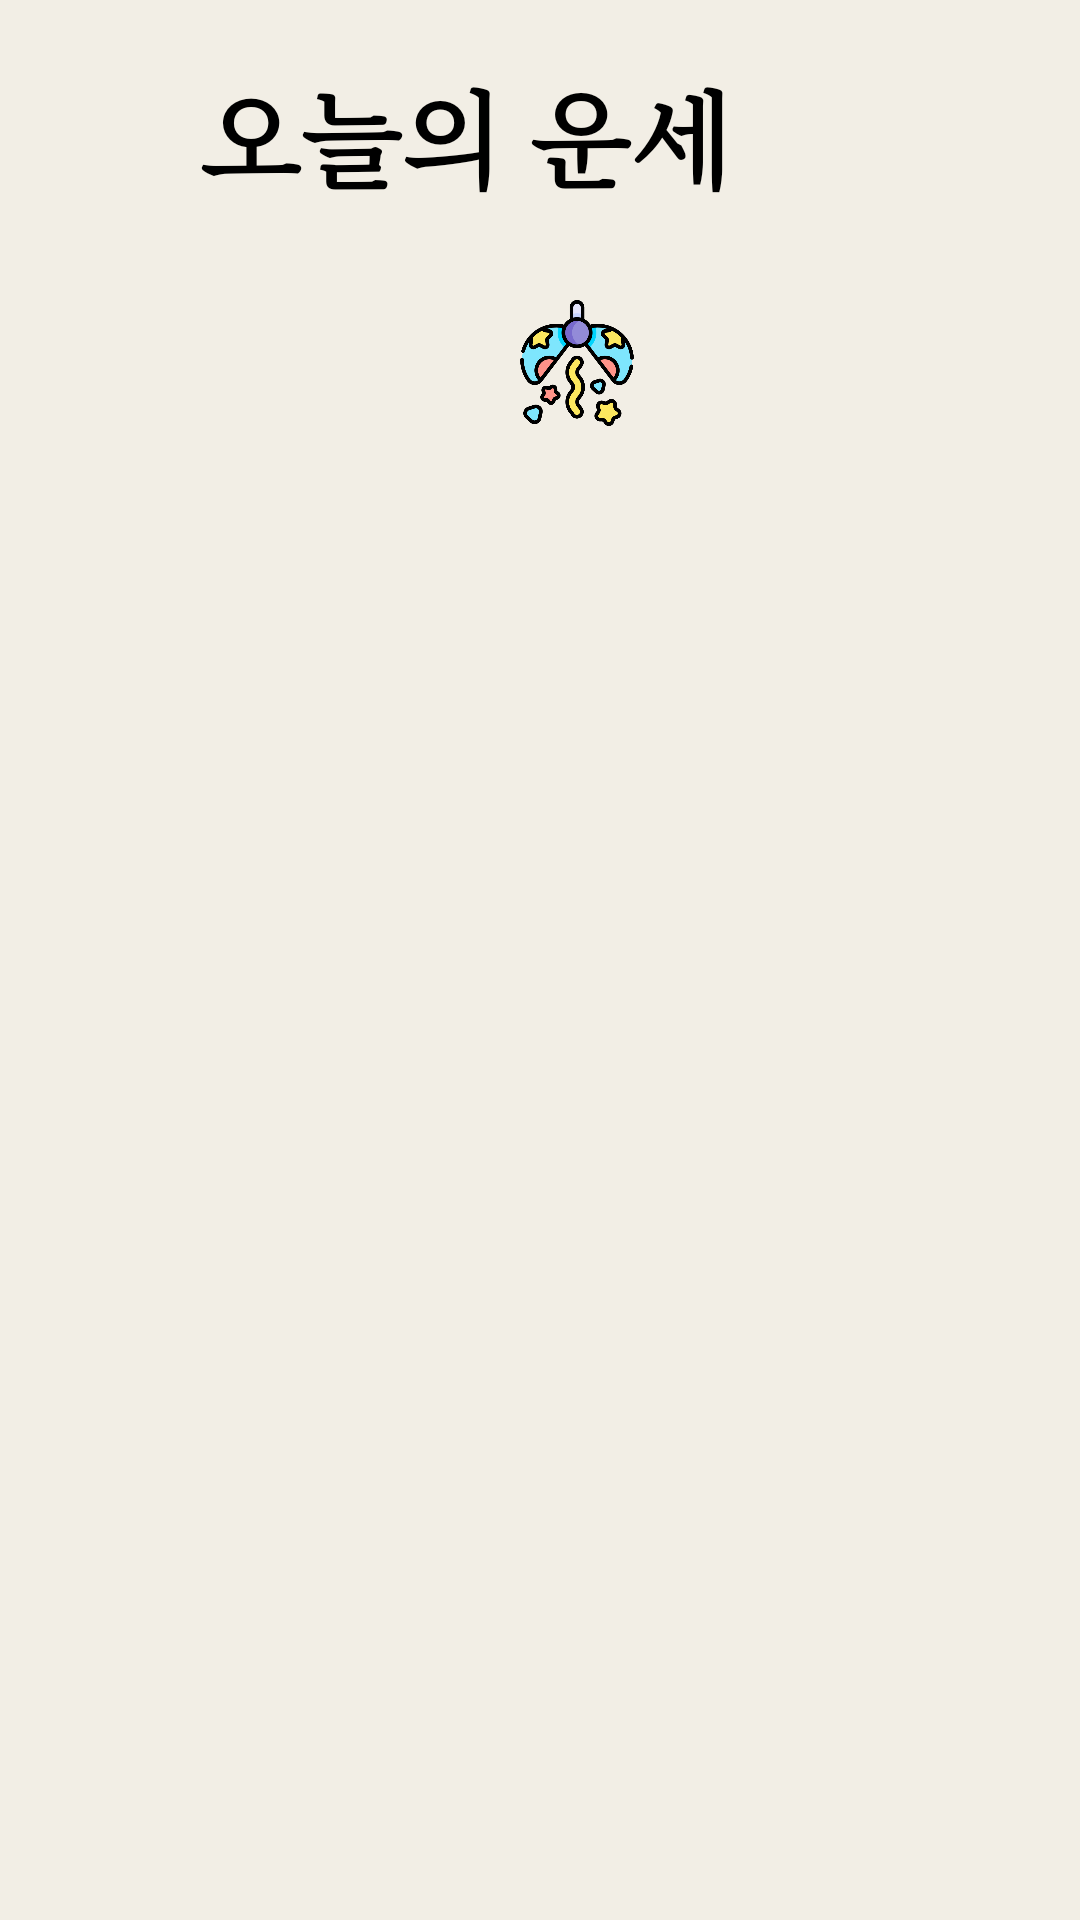

Screen size 1080px×1920px. Icon name, then its center in pixels as point (x, y):
confettiball: point (577, 363)
